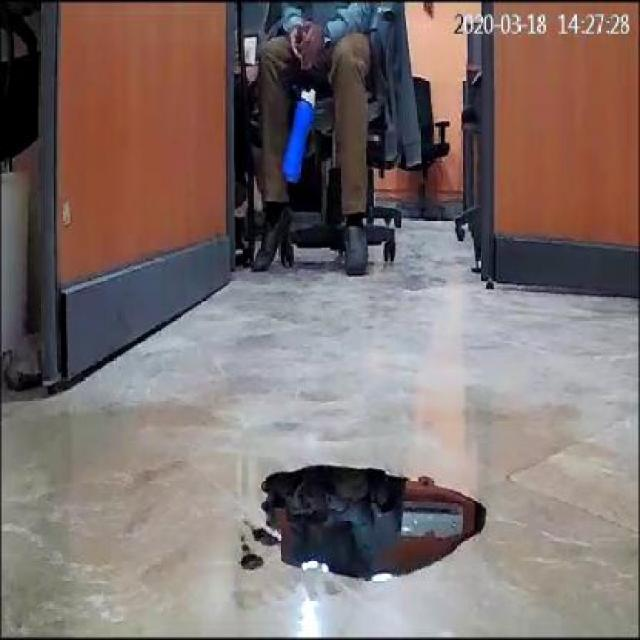spill: (250, 463, 482, 582)
